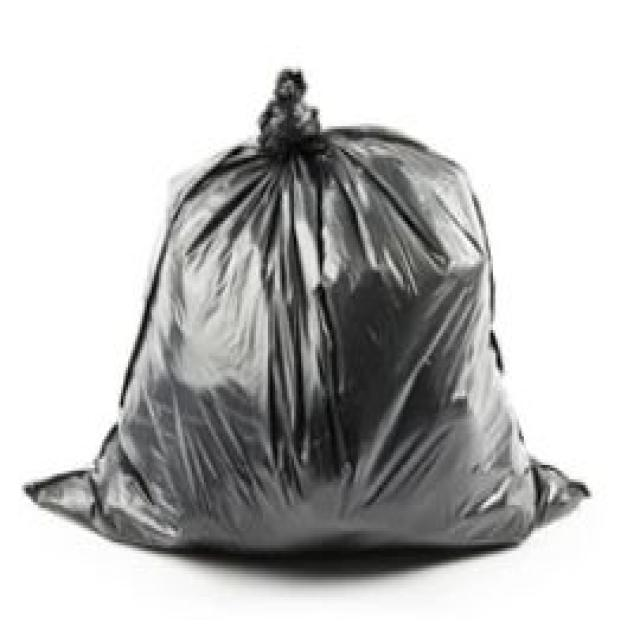general: (22, 63, 590, 560)
